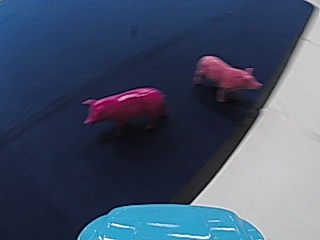pig: (78, 82, 169, 130), (194, 52, 261, 103)
